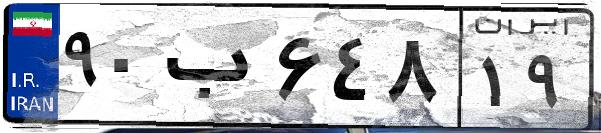0: (110, 28, 158, 98)
1: (475, 38, 525, 113)
4: (330, 28, 385, 110)
6: (270, 28, 330, 110)
8: (385, 28, 445, 110)
9: (57, 26, 110, 100), (525, 38, 570, 115)
ب: (158, 20, 270, 120)
